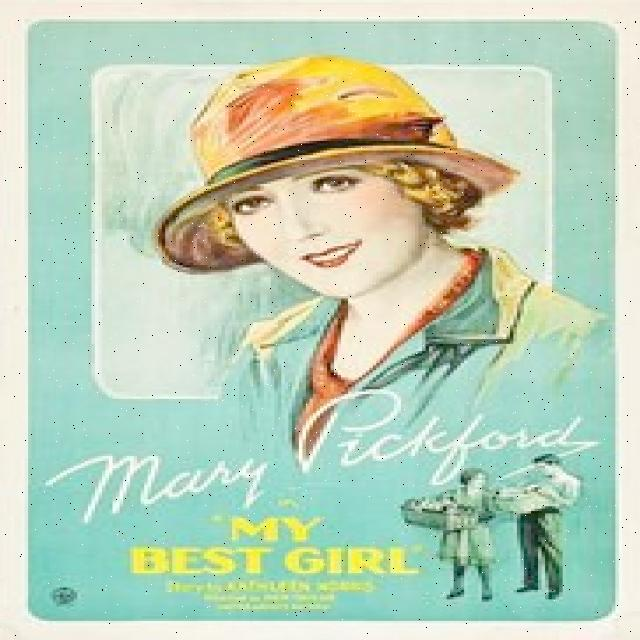movie-judul: (28, 386, 612, 620)
picture: (28, 22, 620, 620)
